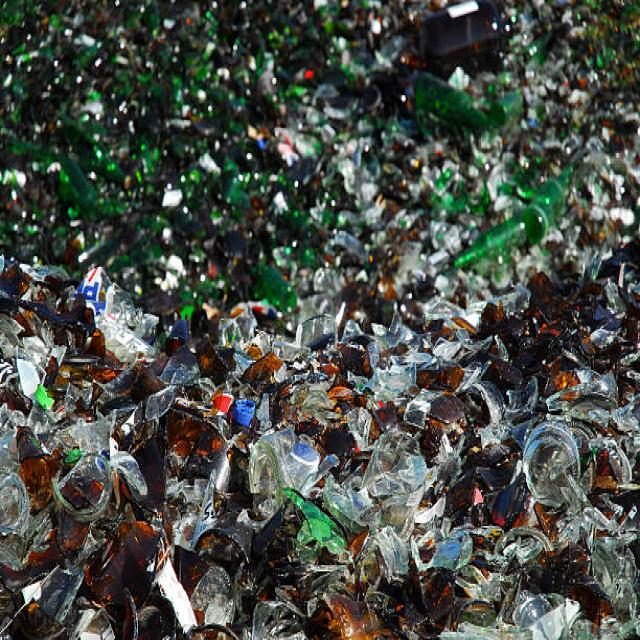trash: (25, 19, 627, 585)
